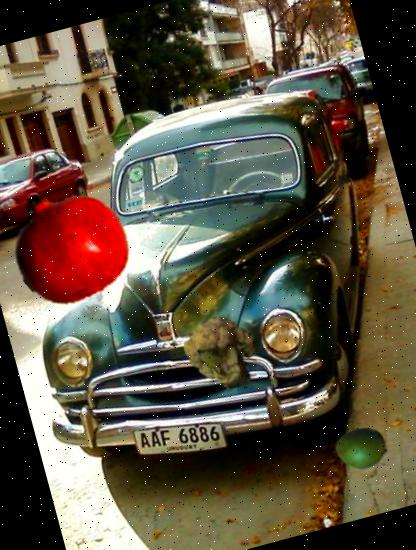Cauliflower: (178, 305, 274, 401)
Mango: (330, 417, 394, 481)
Pomegranate: (0, 178, 140, 318)
